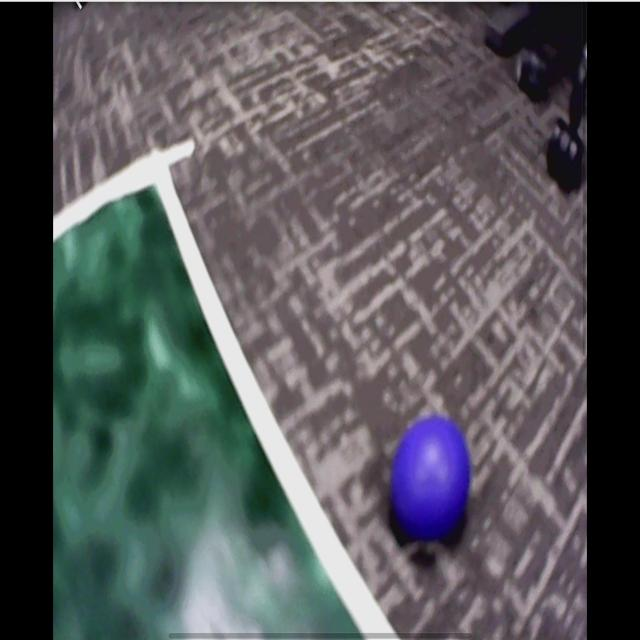ball: (393, 420, 472, 542)
